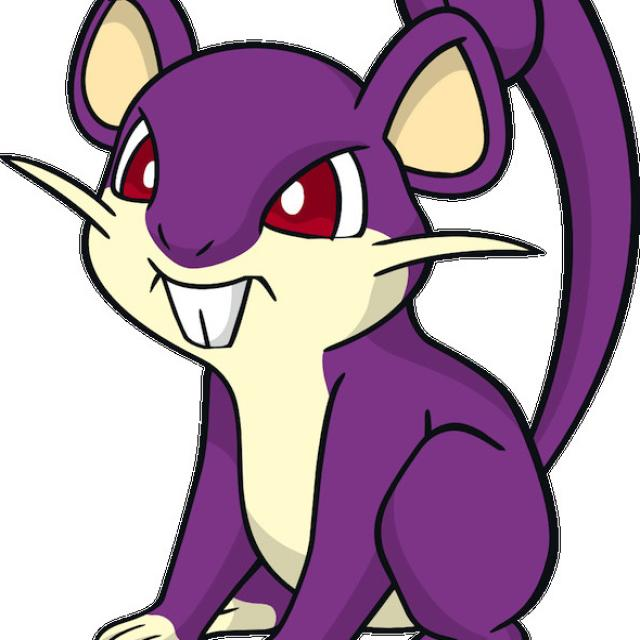Rattata: (66, 14, 536, 640)
